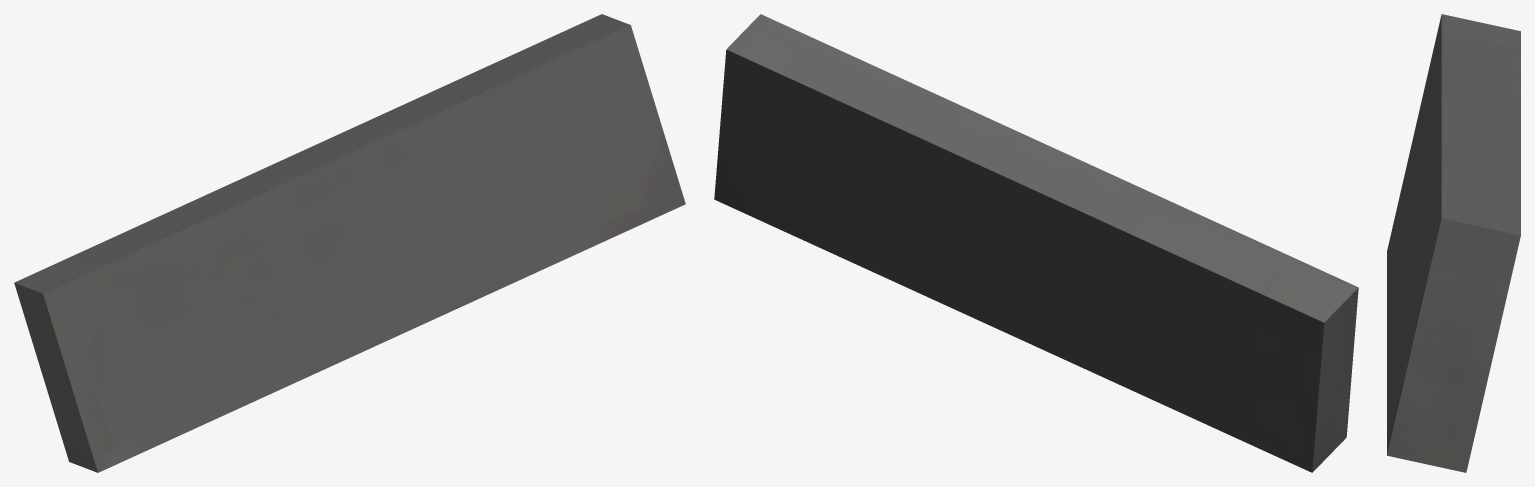
The model's file is fan_left__blade_4.glb.
3 views of the same model, side by side, from view 1: azimuth 30°, elevation 25°; view 2: azimuth 150°, elevation 25°; view 3: azimuth 270°, elevation 25° (orthographic). The views are drawn at different scales.
Parts seen in each view (by area): view 1: world; view 2: world; view 3: world.
Boxes of the visible parts, <box> form: world: <box>14,14,685,472</box>; world: <box>714,14,1358,472</box>; world: <box>1387,14,1520,472</box>.
Bounding box in the file's own units: 0.0291 × 0.0138 × 0.00428.
1 material, 1 textured.
